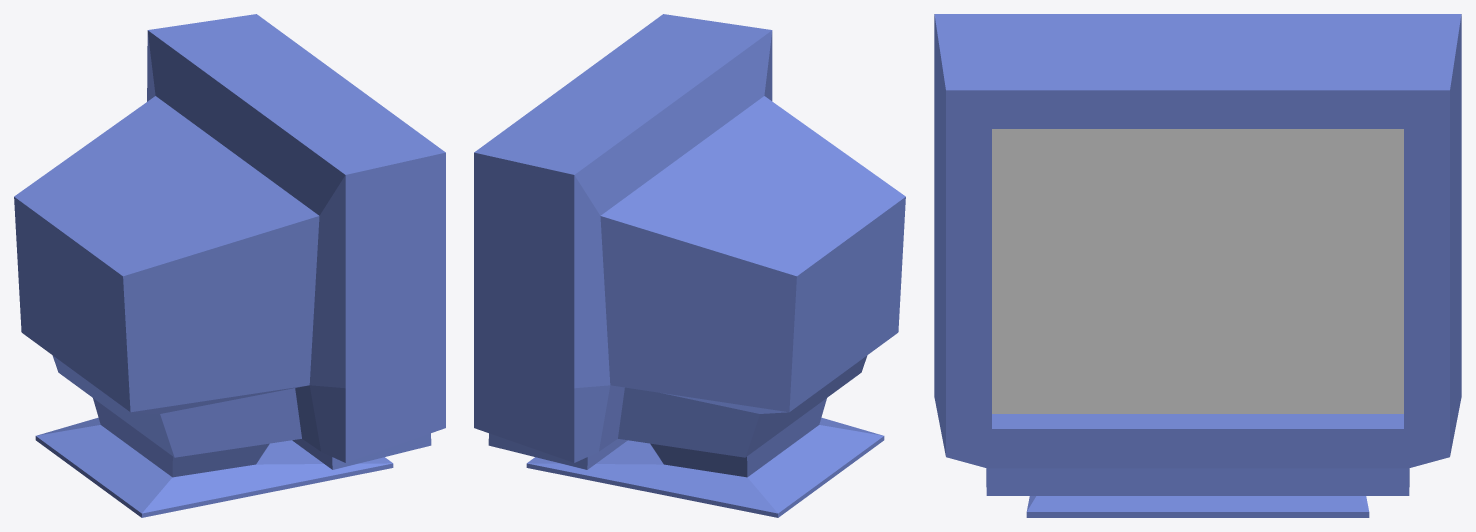
Rendered from old_monitor.fbx.
3 renders of one model, left to right at view 1: azimuth 30°, elevation 25°; view 2: azimuth 150°, elevation 25°; view 3: azimuth 270°, elevation 25°, orthographic. The views are drawn at different scales.
Visible parts, largest first — view 1: mon; view 2: mon; view 3: mon.
Part boxes in pixels (x1=…): mon: x1=14, y1=14, x2=445, y2=517; mon: x1=474, y1=14, x2=905, y2=517; mon: x1=934, y1=14, x2=1461, y2=517.
Bounding box in the file's own units: 117 × 133 × 141.
